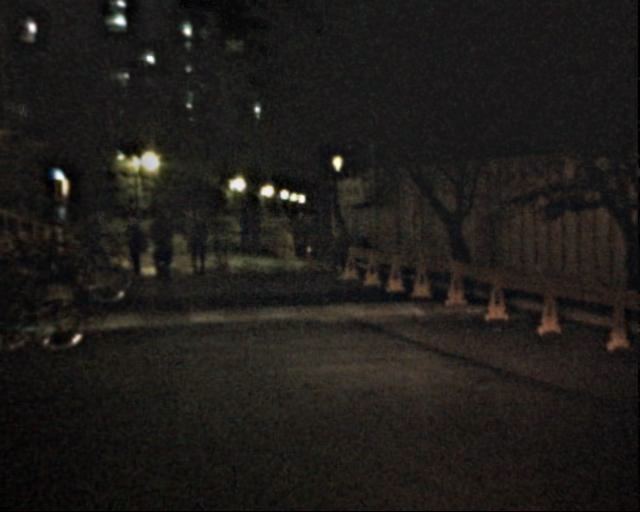person: (146, 204, 178, 281), (86, 206, 116, 278), (324, 213, 353, 283), (120, 211, 148, 280), (188, 212, 215, 278), (176, 206, 195, 252), (234, 208, 253, 254), (246, 209, 263, 250)
